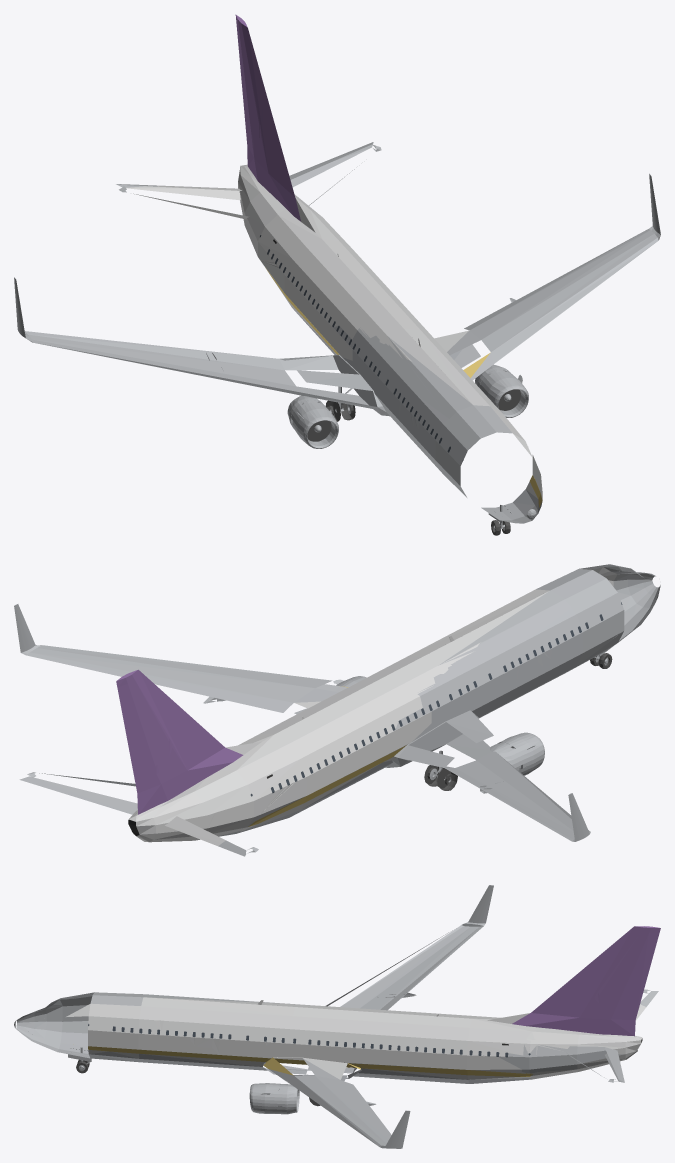
The model's file is grove-express.glb.
3 views of the same model, one above another, from view 1: azimuth 30°, elevation 25°; view 2: azimuth 150°, elevation 25°; view 3: azimuth 270°, elevation 25° (orthographic). The views are drawn at different scales.
Visible parts, largest first — view 1: grove-express; view 2: grove-express; view 3: grove-express.
Part boxes in pixels (box(x1,y1,x2,y2)): grove-express: box(14, 14, 660, 535); grove-express: box(14, 564, 660, 856); grove-express: box(14, 885, 660, 1148).
Bounding box in the file's own units: 34.69 × 12.93 × 41.73.
